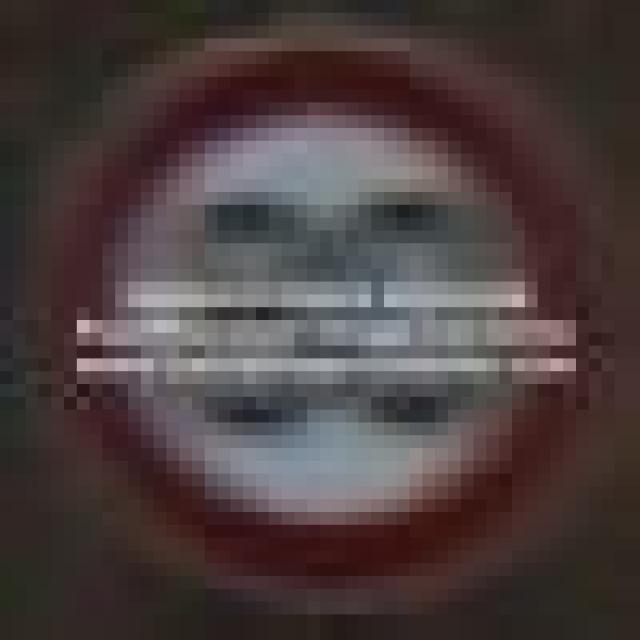SPEED_LIMIT_80: (38, 51, 589, 563)
